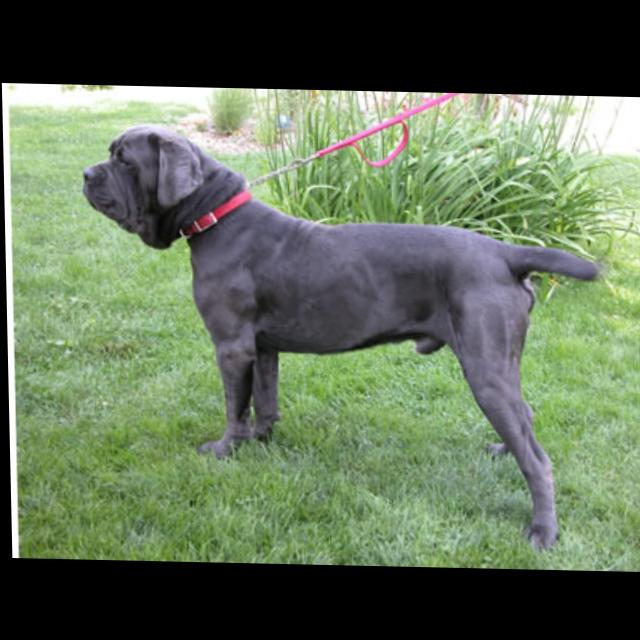mastino_napoletano: (80, 121, 604, 550)
